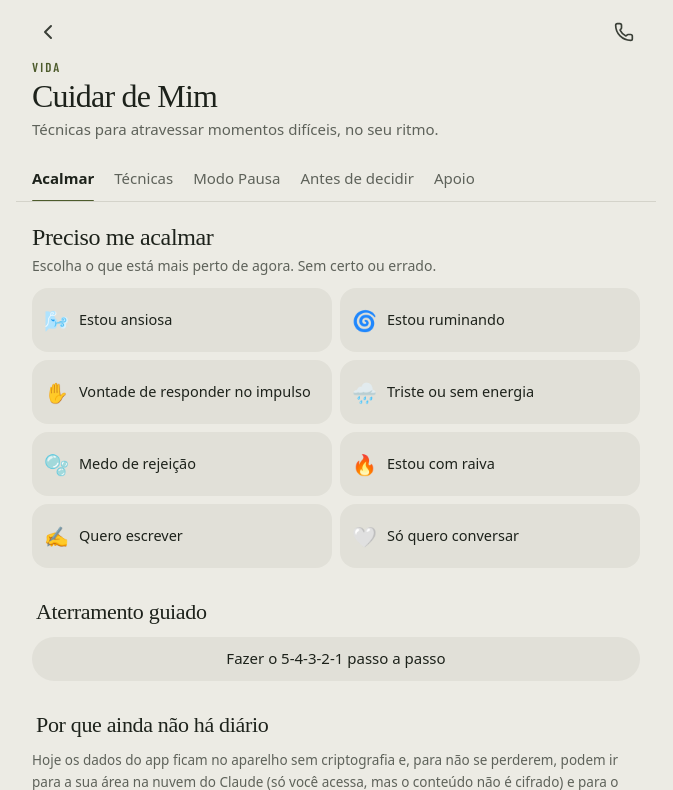
Scenario: Cuidar de Mim screens › 5-4-3-2-1 avança por toque
What coordinates should you click on to do the following:
click the button "Fazer o 5-4-3-2-1 passo a passo"
I would click on:
 (336, 659)
Its box is top-left (32, 637), bottom-right (640, 681).
(page scrolled)
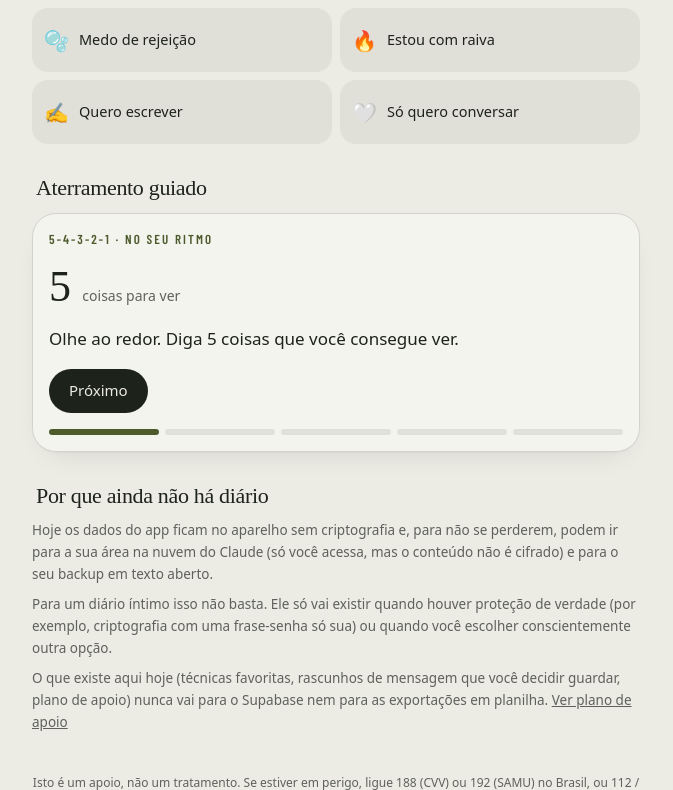
What coordinates should you click on to do the following:
click the button "Próximo"
I would click on:
 (98, 390)
Its box is top-left (49, 368), bottom-right (148, 412).
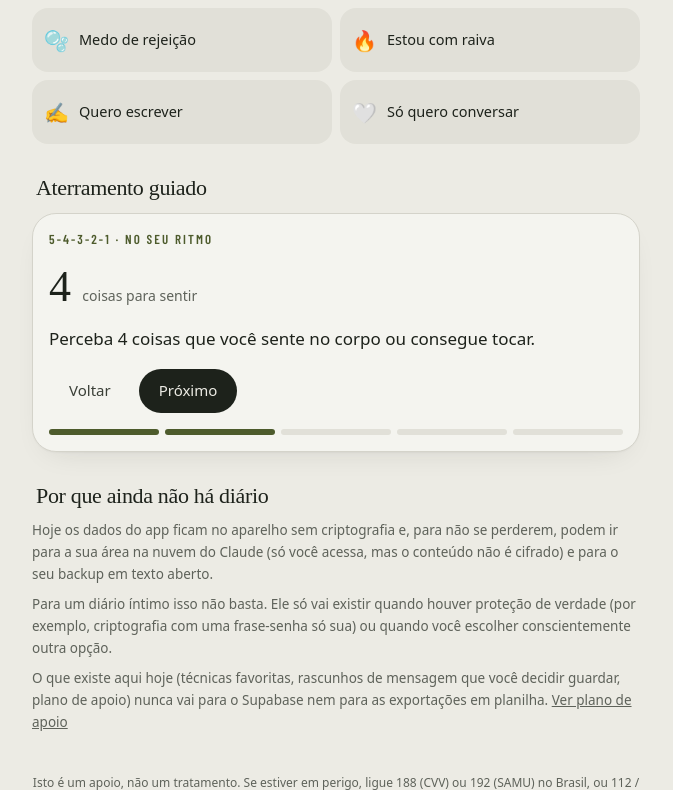
What coordinates should you click on to do the following:
click the button "Próximo"
I would click on:
 (188, 390)
Its box is top-left (139, 368), bottom-right (237, 412).
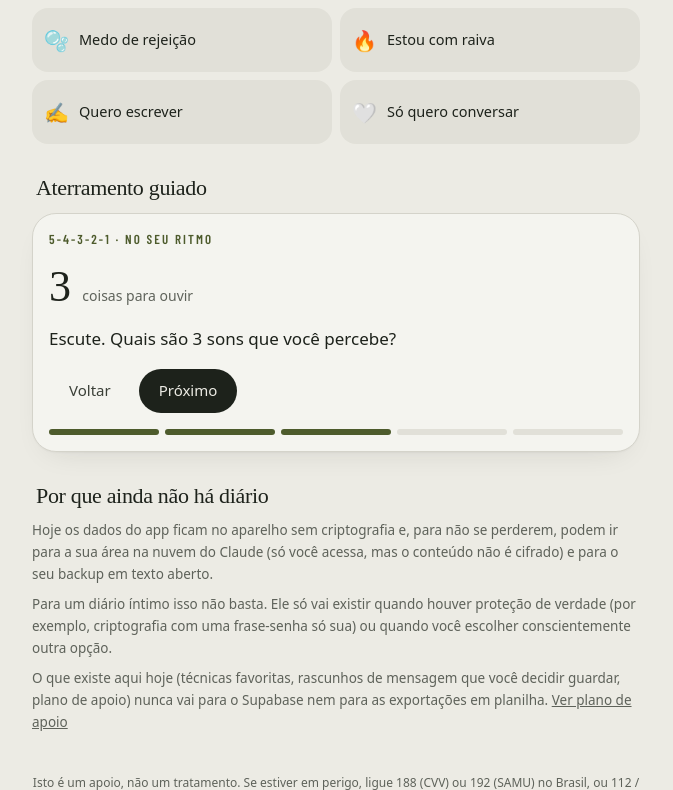
What coordinates should you click on to do the following:
click the button "Próximo"
I would click on:
 (188, 390)
Its box is top-left (139, 368), bottom-right (237, 412).
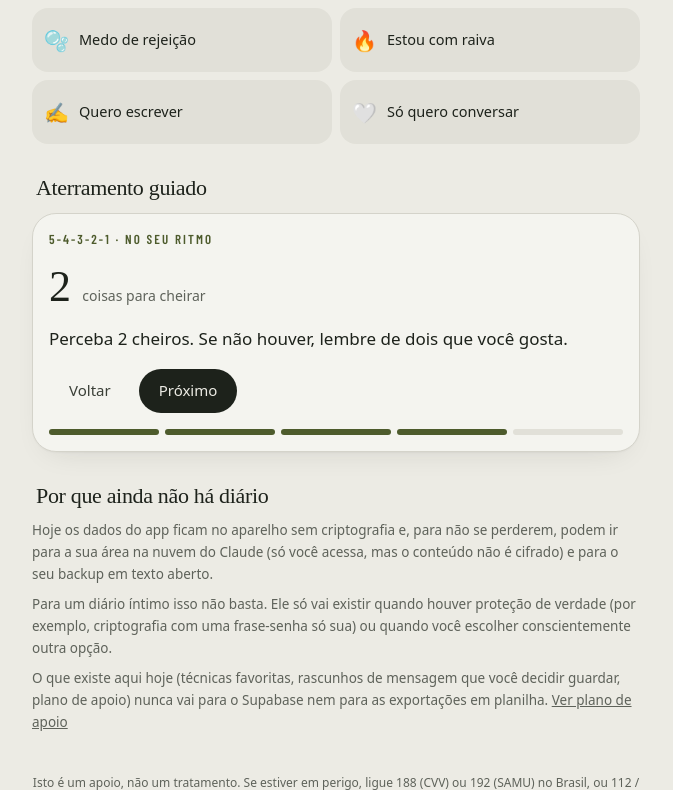
What coordinates should you click on to do the following:
click the button "Próximo"
I would click on:
 (188, 390)
Its box is top-left (139, 368), bottom-right (237, 412).
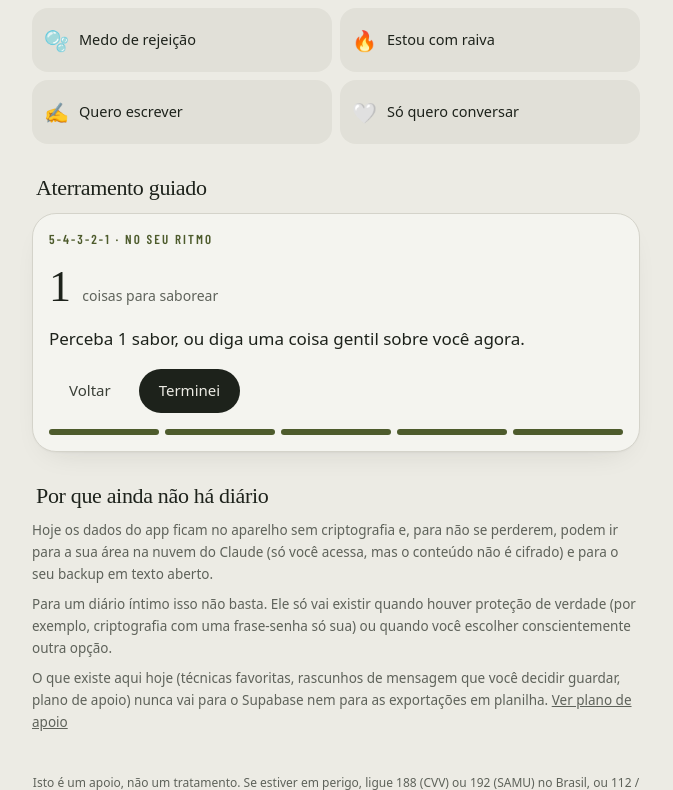
What coordinates should you click on to do the following:
click the button "Terminei"
I would click on:
 (189, 390)
Its box is top-left (139, 368), bottom-right (240, 412).
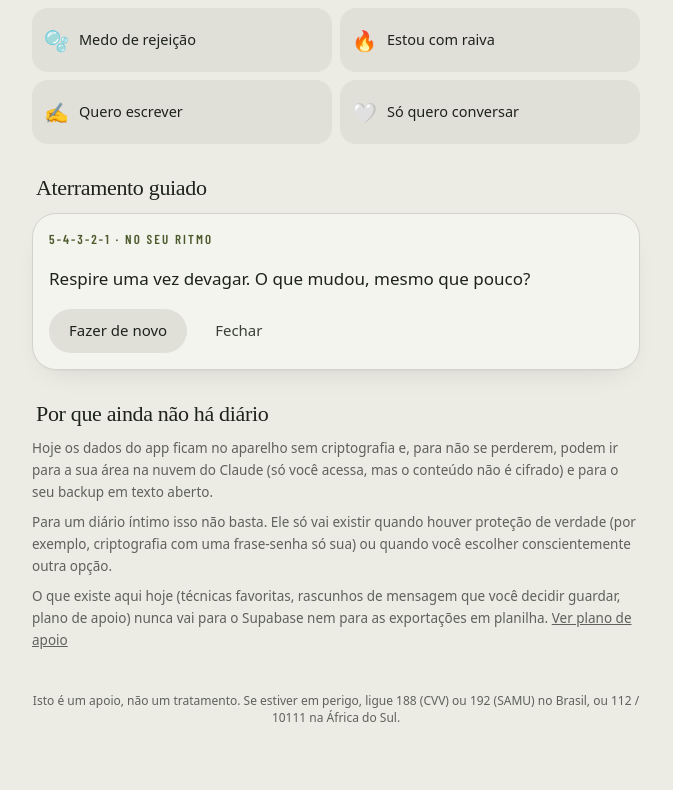
Result: the text "Respire uma vez devagar. O que mudou, mesmo que pouco?" is shown at top-left (49, 267), bottom-right (530, 290)
